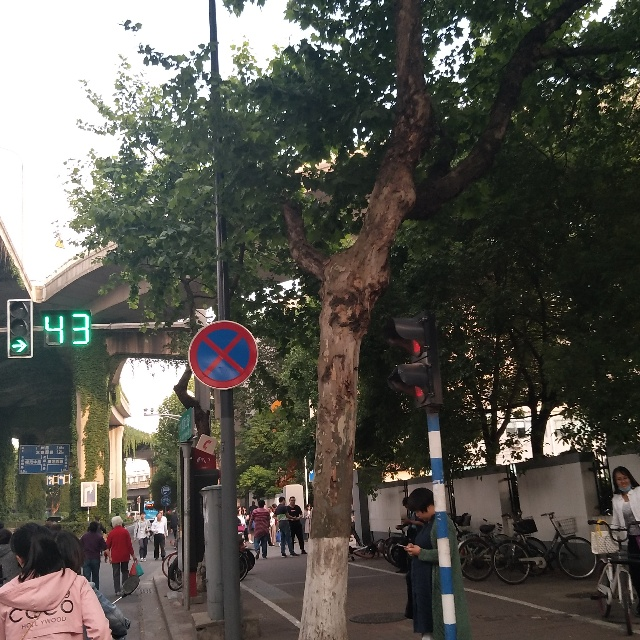stop: (185, 321, 267, 395)
